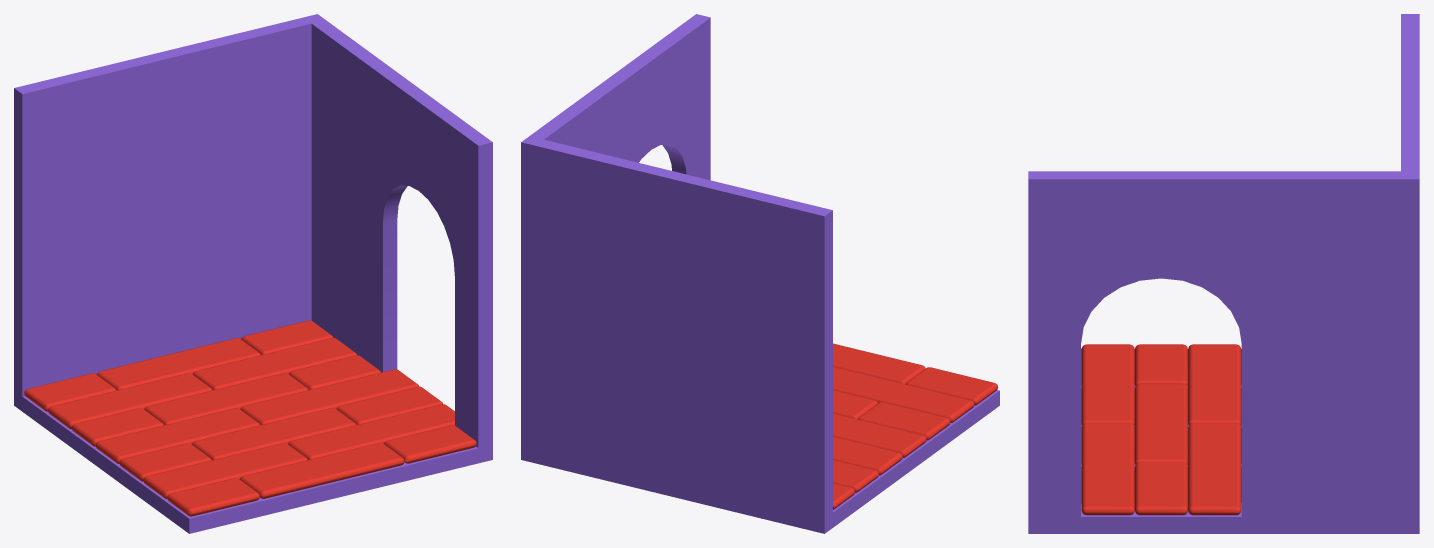
Rendered from room.gltf.
3 renders of one model, left to right at view 1: azimuth 30°, elevation 25°; view 2: azimuth 150°, elevation 25°; view 3: azimuth 270°, elevation 25°, orthographic. The views are drawn at different scales.
Parts seen in each view (by area): view 1: Cube, Cube.001; view 2: Cube, Cube.001; view 3: Cube, Cube.001.
Part boxes in pixels (x1,y1,x2,y2): Cube: (14, 14, 492, 533); Cube.001: (24, 320, 476, 516); Cube: (521, 14, 999, 533); Cube.001: (833, 343, 998, 509); Cube: (1028, 14, 1419, 533); Cube.001: (1081, 344, 1241, 515).
Size of the model in its own units: 8.4 by 8.4 by 8.4.
